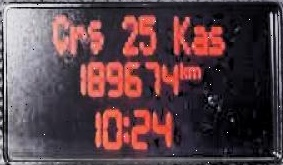0: (100, 107, 120, 148)
1: (93, 110, 102, 146), (78, 62, 85, 93)
2: (129, 107, 149, 148), (120, 13, 136, 53)
4: (150, 108, 170, 147), (160, 62, 176, 93)
5: (138, 13, 155, 53)
6: (124, 60, 140, 93)
7: (143, 60, 159, 93)
8: (85, 60, 102, 95)
9: (104, 60, 121, 95)
X: (171, 13, 189, 55), (52, 13, 68, 53), (86, 18, 104, 53), (206, 23, 224, 53), (190, 23, 206, 53), (69, 25, 85, 53), (120, 113, 130, 142), (186, 63, 200, 78), (179, 60, 186, 80)
